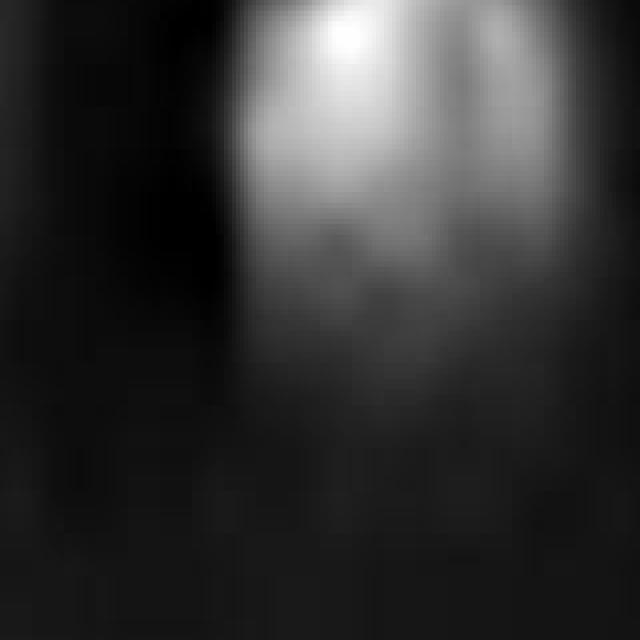person: (237, 1, 585, 508)
